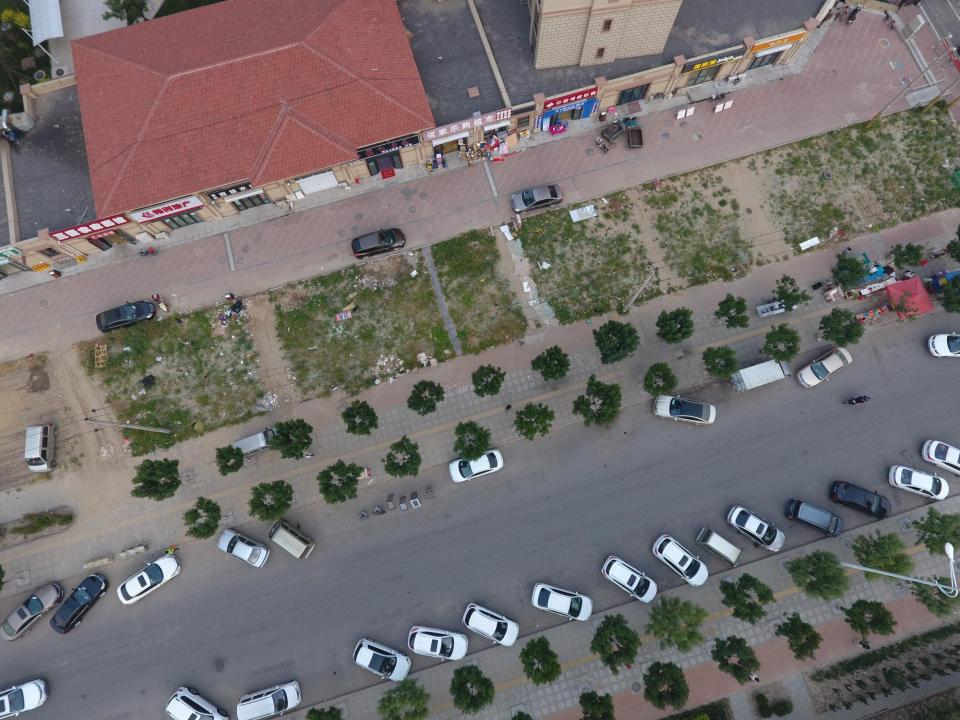car: (0, 582, 64, 641), (49, 574, 109, 634), (117, 554, 181, 606), (652, 534, 708, 587), (600, 555, 657, 603), (727, 505, 785, 551), (236, 680, 302, 720), (352, 638, 411, 682), (531, 582, 593, 621), (462, 603, 518, 646), (832, 480, 892, 520), (796, 347, 853, 388), (786, 498, 844, 537), (407, 626, 469, 661), (216, 528, 270, 568), (165, 686, 229, 719), (652, 393, 716, 426), (889, 466, 949, 500), (0, 678, 48, 720), (96, 300, 156, 333), (450, 449, 503, 483), (352, 228, 406, 259), (511, 184, 563, 214), (922, 439, 960, 476), (928, 331, 959, 359), (305, 453, 315, 458)
truck: (730, 357, 792, 393)
van: (696, 526, 744, 568), (267, 518, 314, 560), (24, 424, 59, 472), (233, 427, 281, 459)
